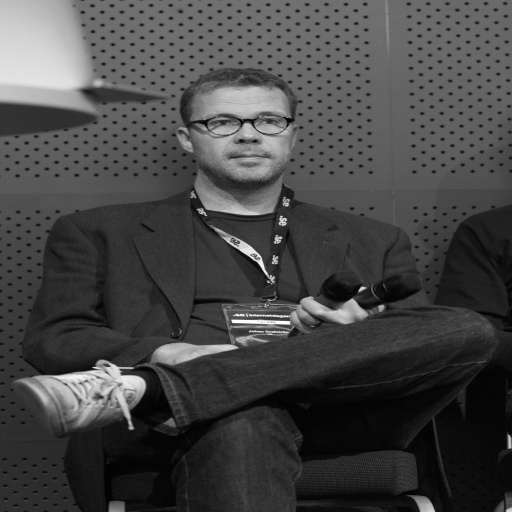hand: (284, 292, 370, 333), (150, 339, 236, 367)
